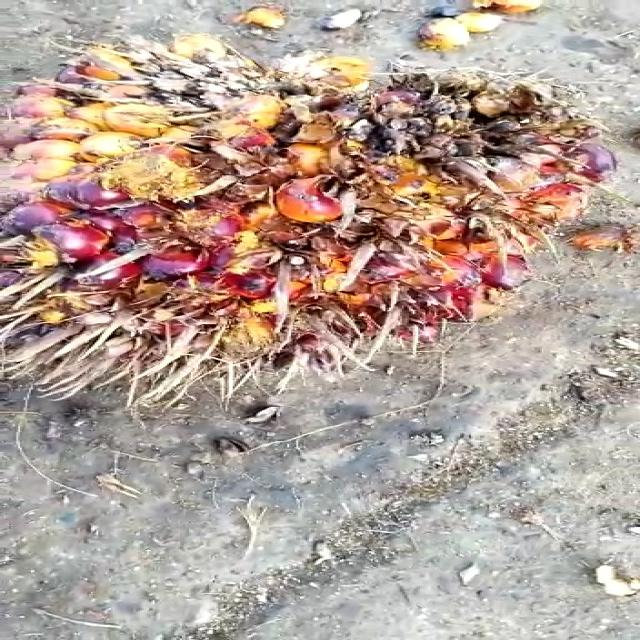palm oil: (0, 43, 607, 391)
